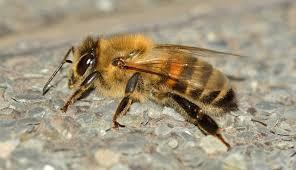Apis-mellifera-scutellata: (35, 24, 254, 150)
